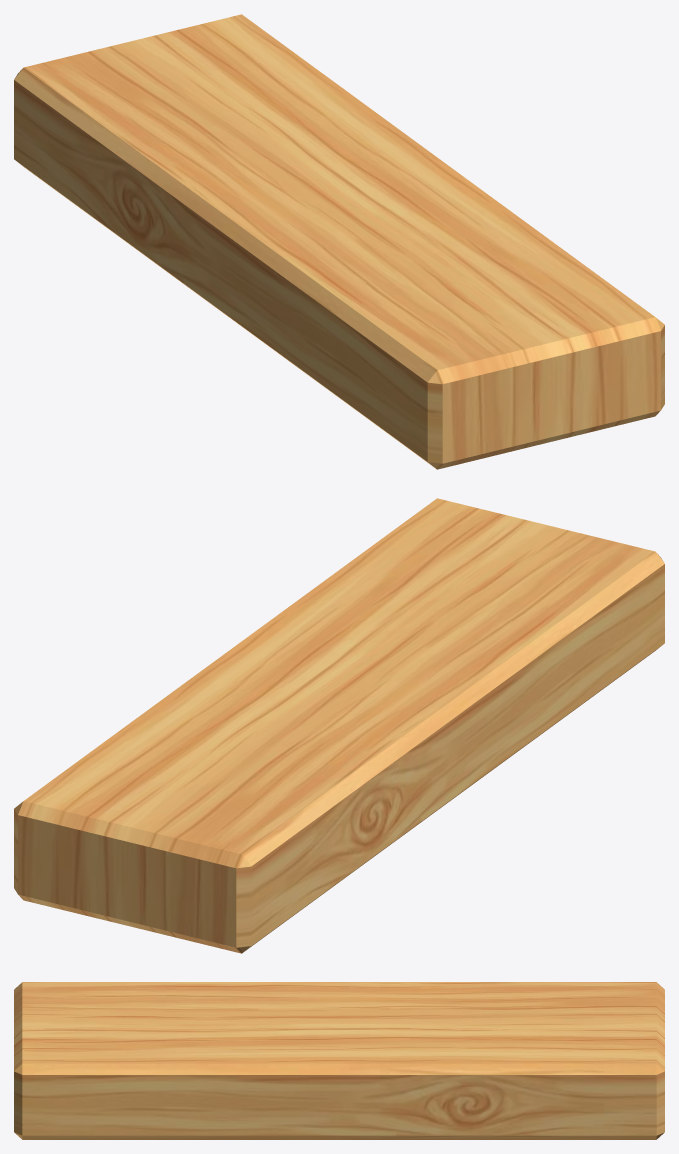
File: board.glb
The picture shows the model from 3 angles, top to bottom: view 1: azimuth 30°, elevation 25°; view 2: azimuth 150°, elevation 25°; view 3: azimuth 270°, elevation 25°; orthographic projection. The views are drawn at different scales.
Parts seen in each view (by area): view 1: Board; view 2: Board; view 3: Board.
Boxes of the visible parts, x1,y1,x2,y2 form: Board: (14,14,664,469); Board: (14,498,664,953); Board: (14,982,664,1139).
Bounding box in the file's own units: 0.2 × 0.08 × 0.62.
1 material, 1 textured.
